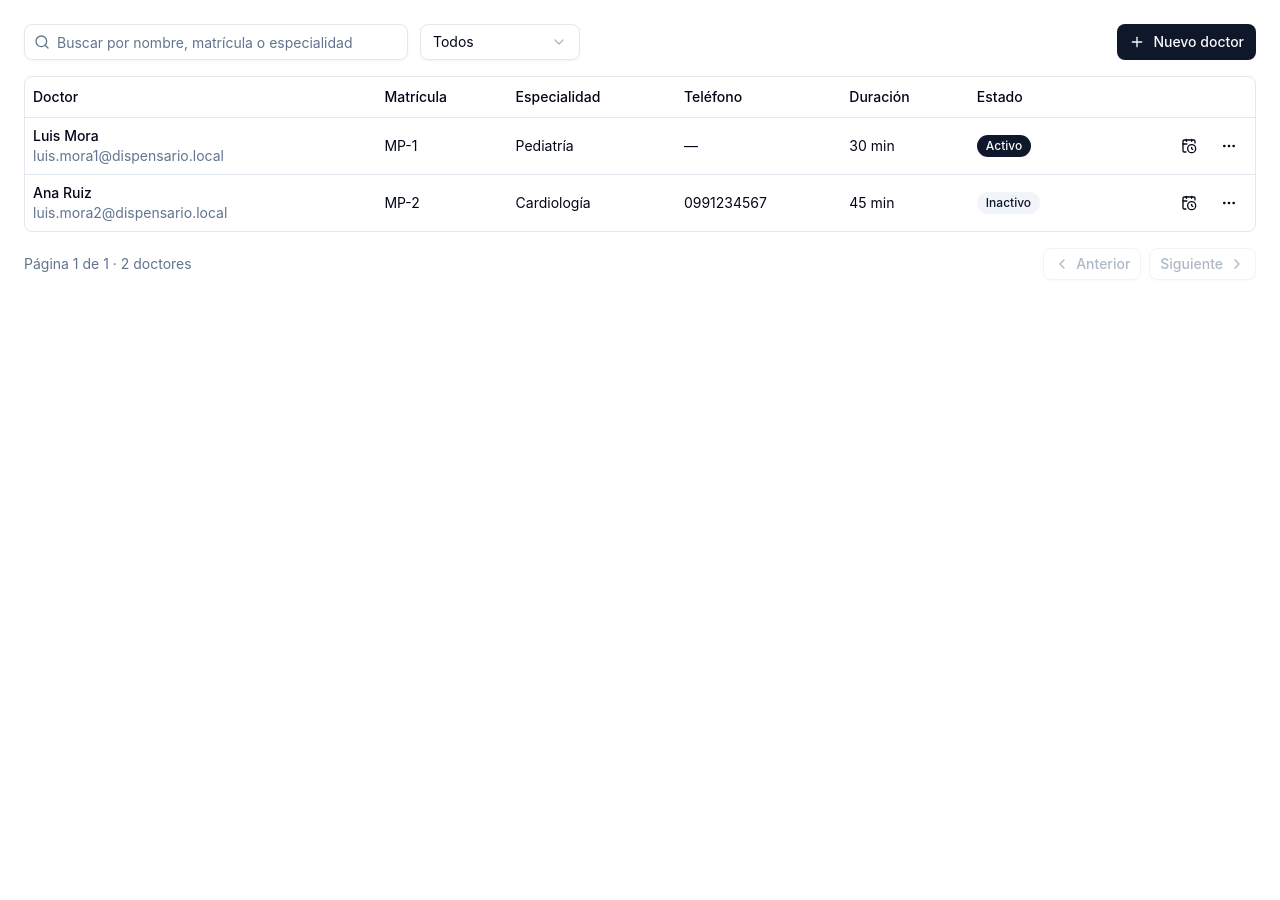
DoctorsPage › edits a doctor loading its details first
Expected: the text "Luis Mora" is shown, [33,126,99,144]
Step 1. Click the button named "Más acciones de Luis Mora" → (1229,146), box [1211,128,1247,164]
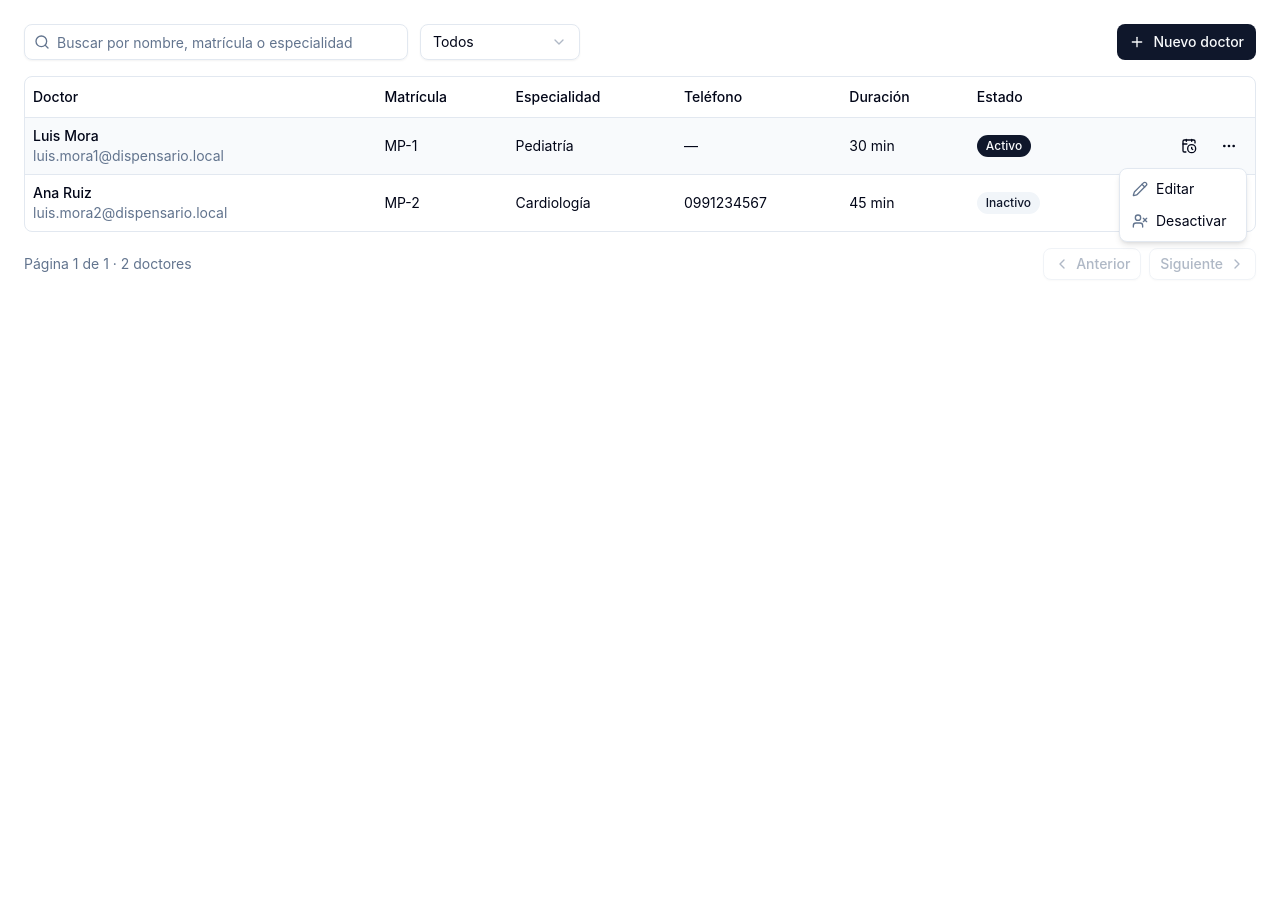
Step 2. Click the menu item "Editar" → (1163,188), box [1132,180,1194,197]
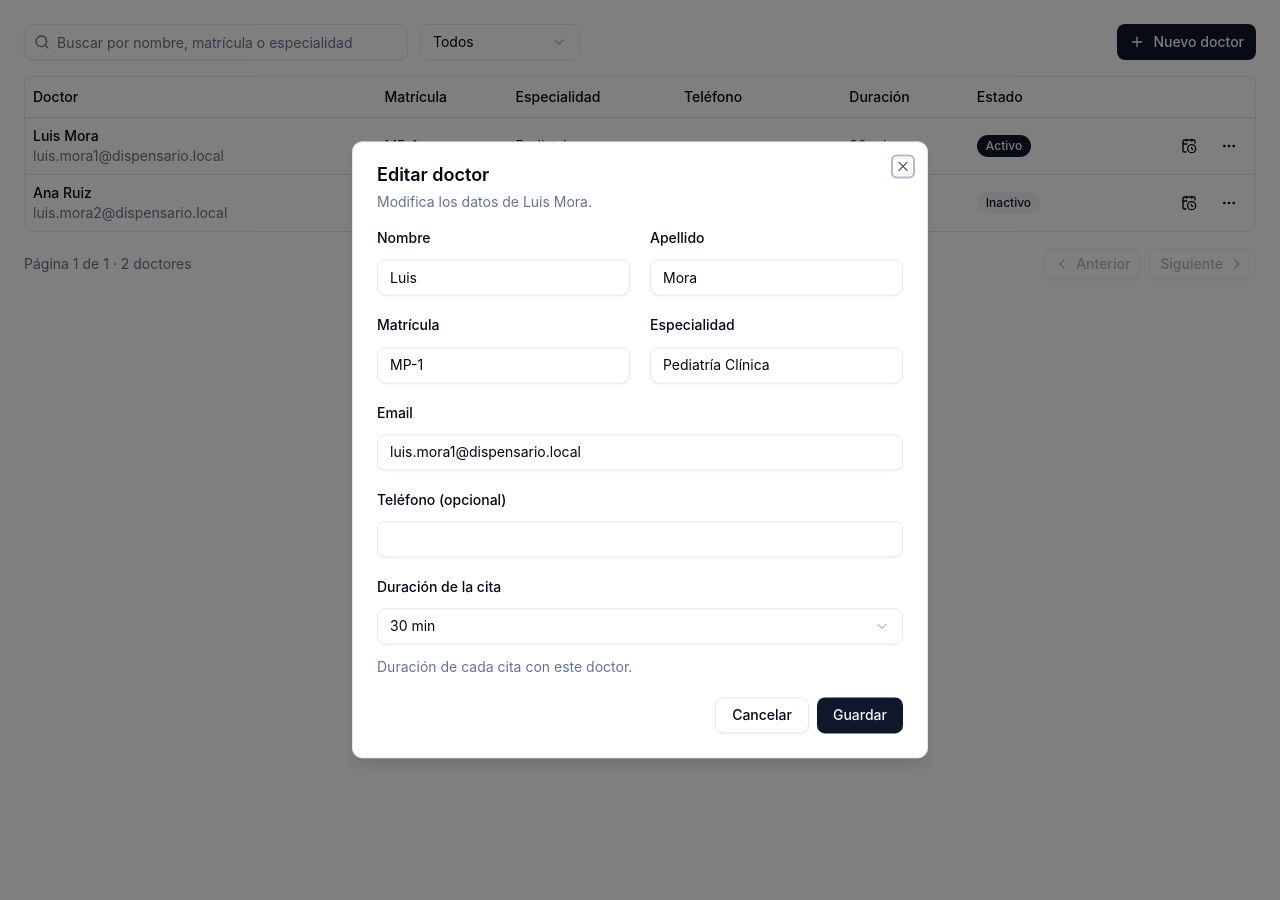
Now the text "Modifica los datos de Luis Mora." is shown, box [377,193,592,210]
Now the field labelled "Especialidad" holds "Pediatría Clínica", box [650,347,903,383]
Step 3. Replace the text in the field labelled "Apellido" with "Mora Vega" → (776,278), box [650,260,903,296]
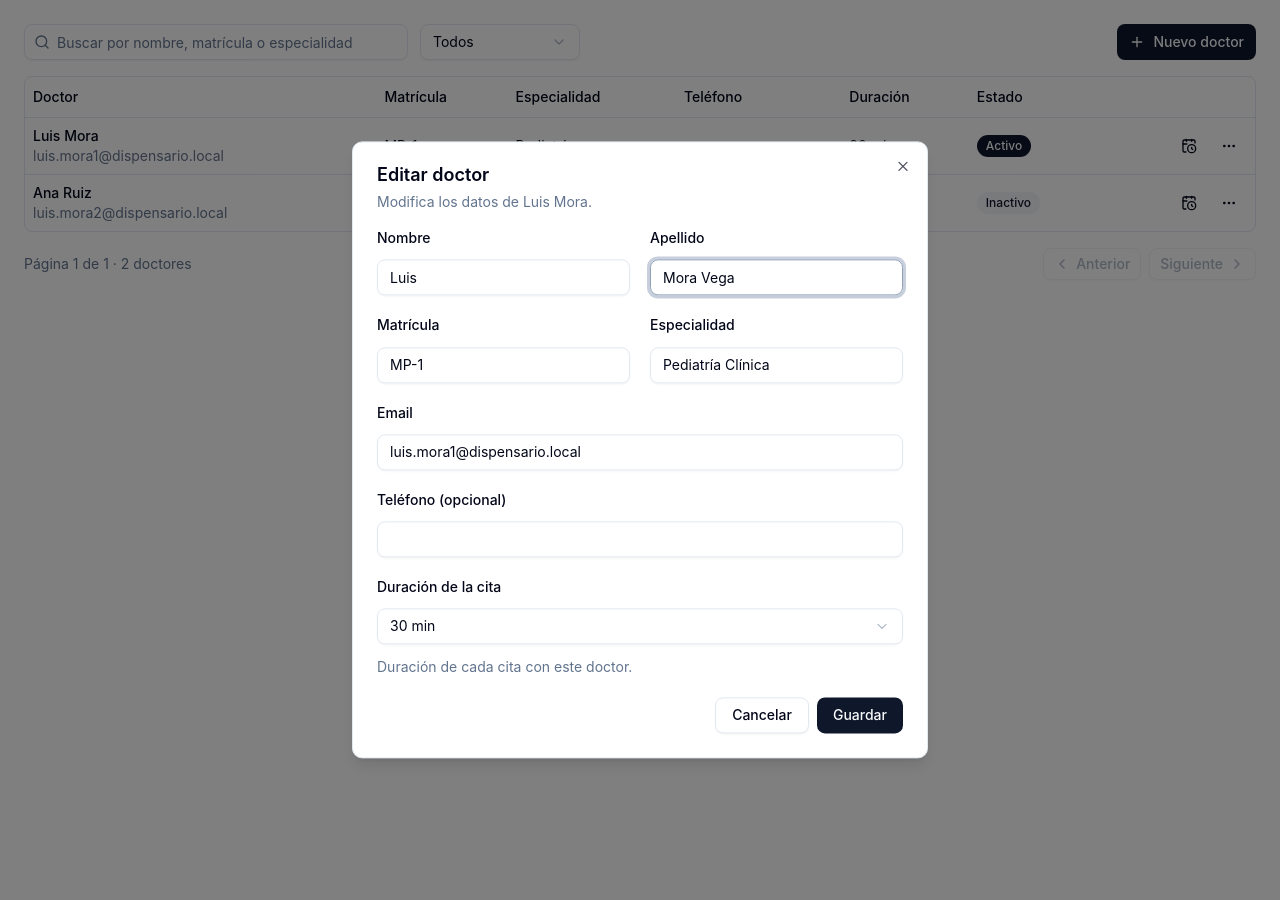
Step 4. Click the button "Guardar" → (860,716), box [817,698,903,734]
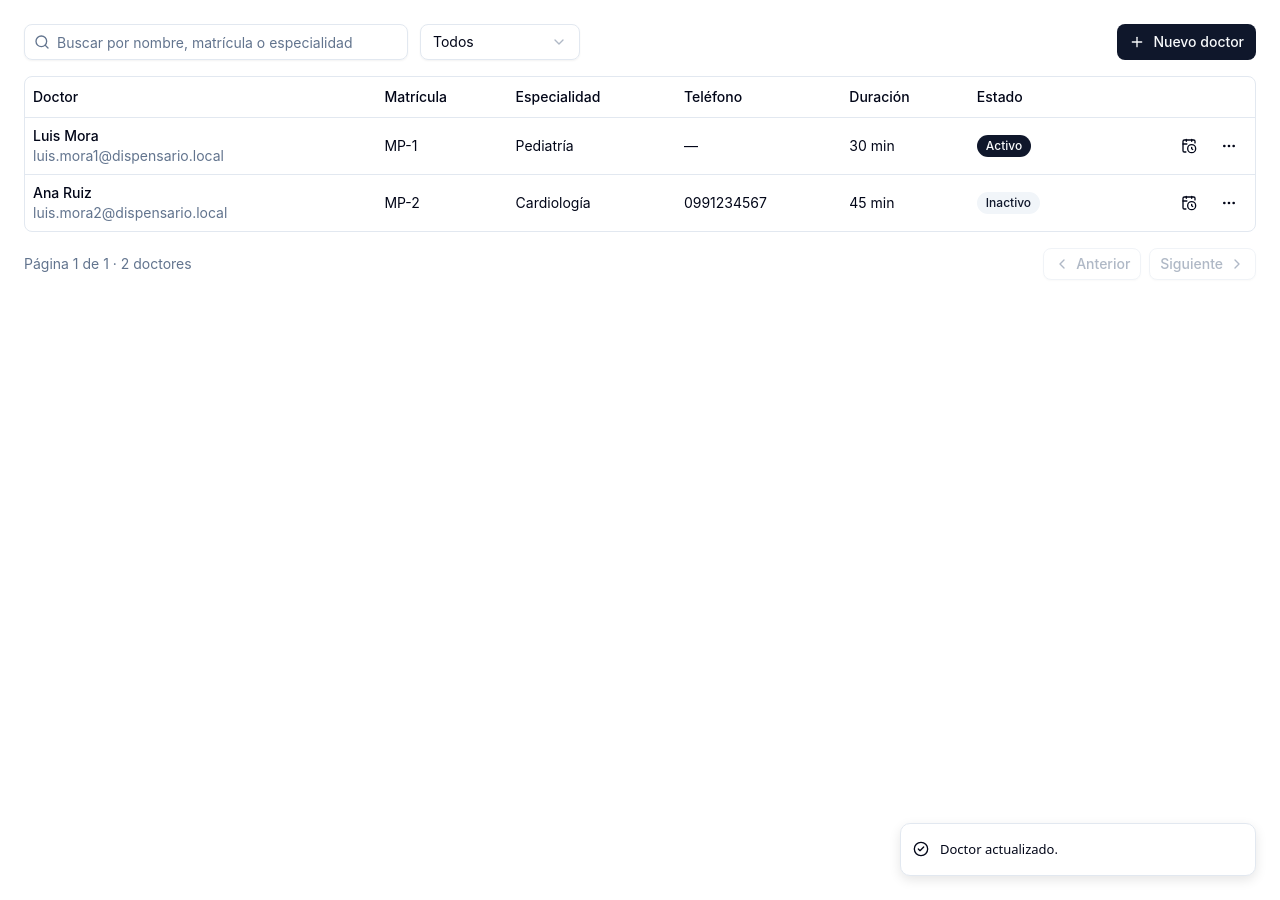
Now the text "Doctor actualizado." is shown, box [940,840,1058,859]
